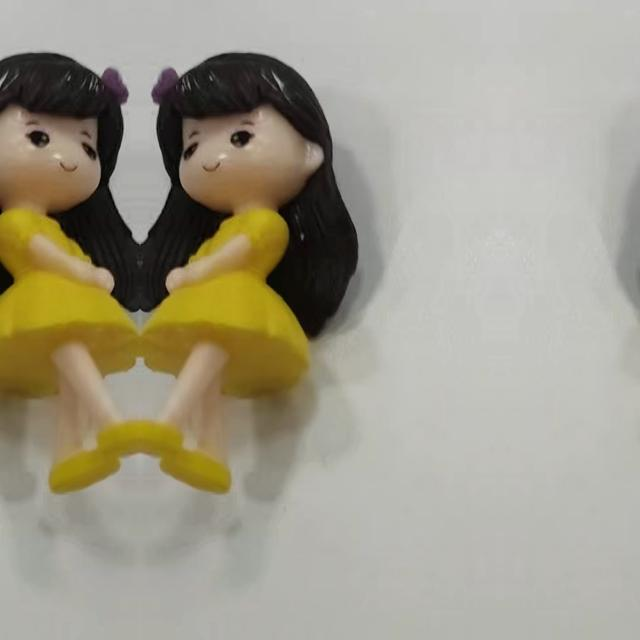woman dress: (154, 213, 324, 499), (0, 213, 126, 499)
woman head: (148, 45, 342, 198), (0, 45, 132, 198)
